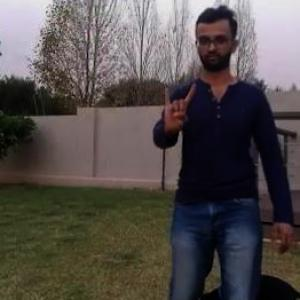takeoff-hand: (157, 75, 201, 143)
